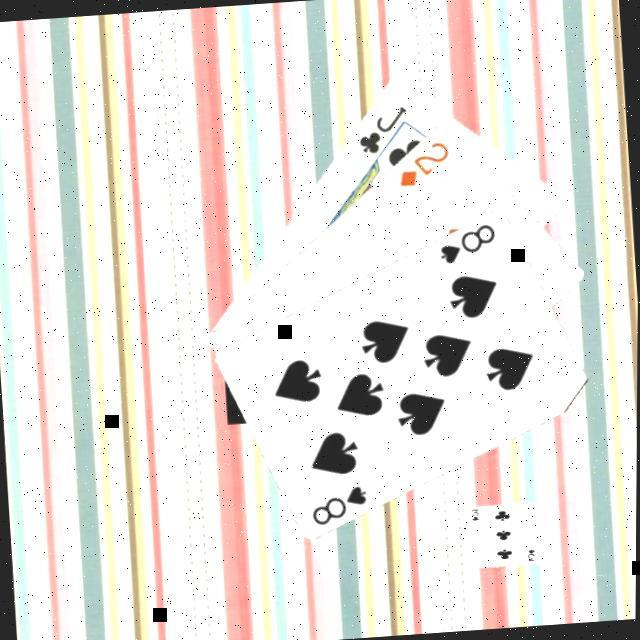2D: (394, 138, 456, 192)
8S: (436, 220, 503, 268), (309, 482, 374, 530)
JC: (354, 102, 414, 159)
